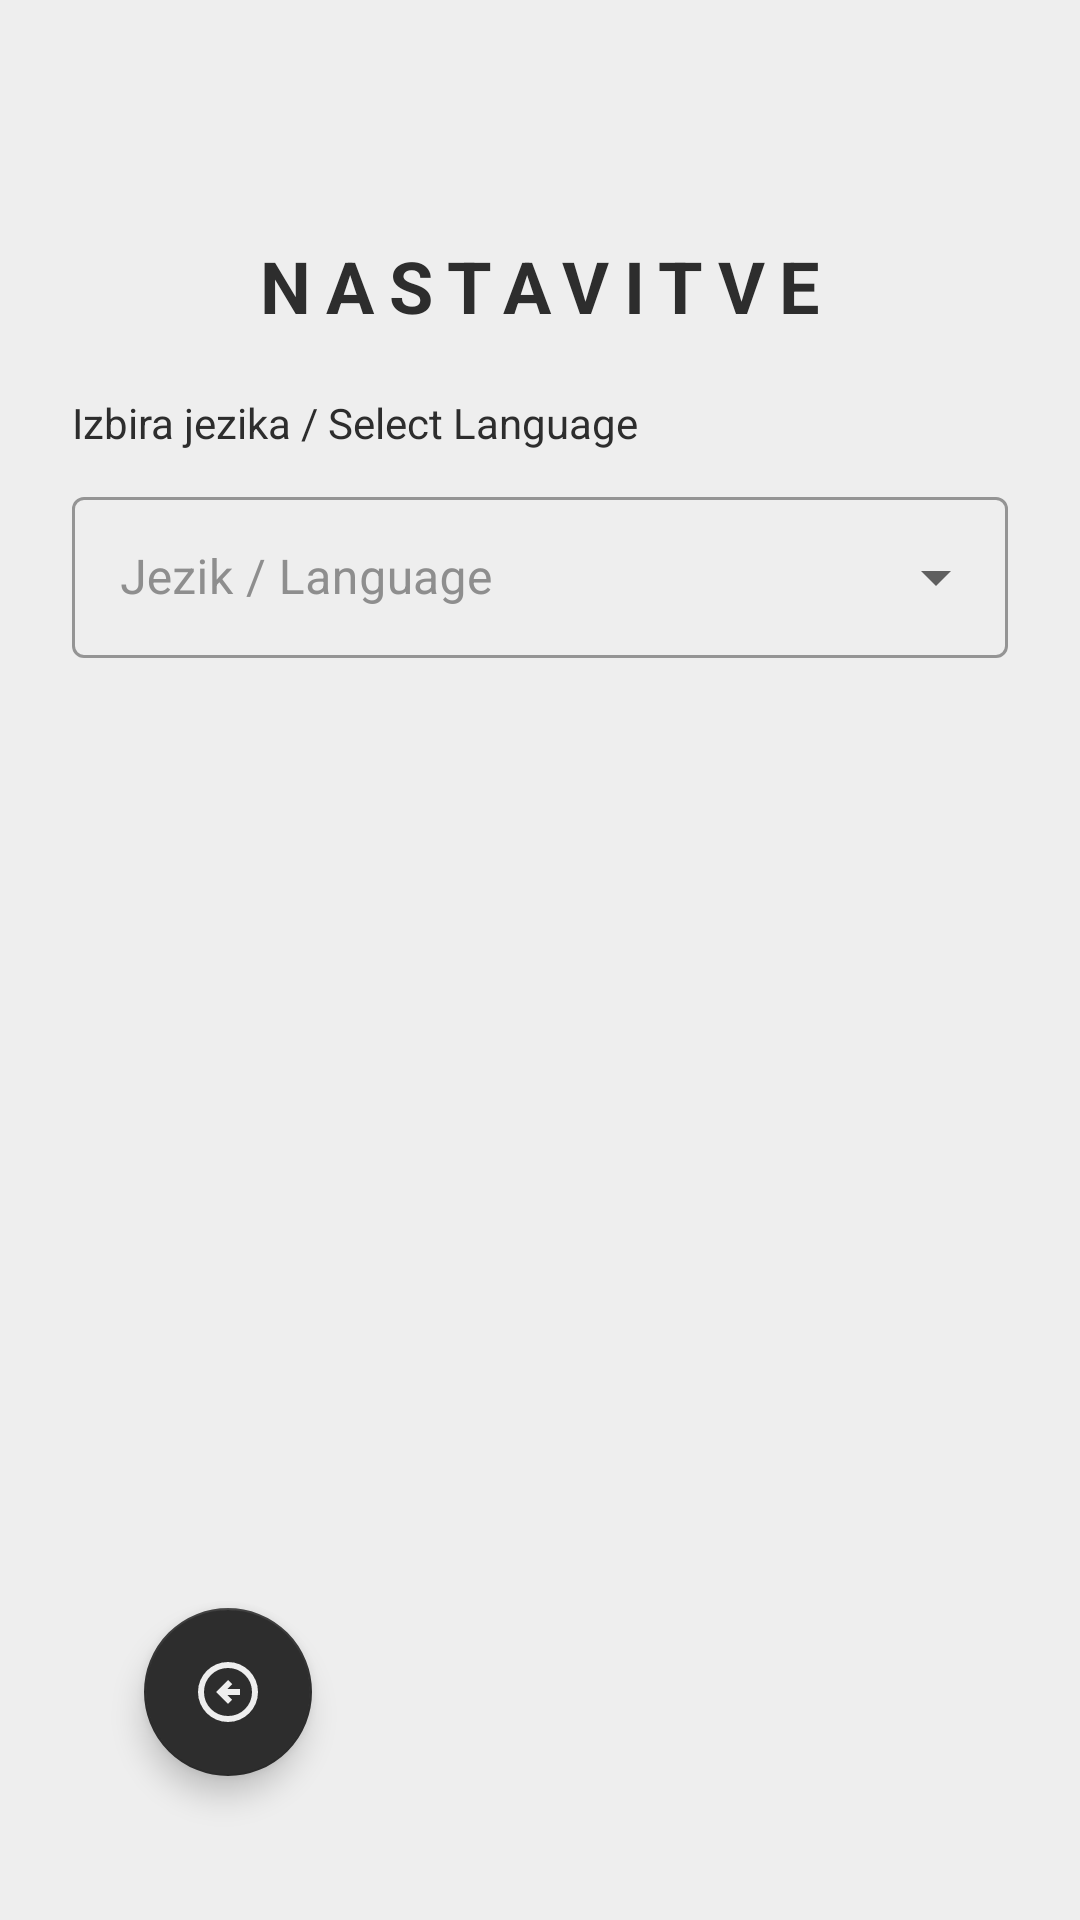

Named icons in this screenshot (1080px×1920px) and their bounding boxes, (x1, y1, x2, y2):
back: (144, 1608, 312, 1776)
